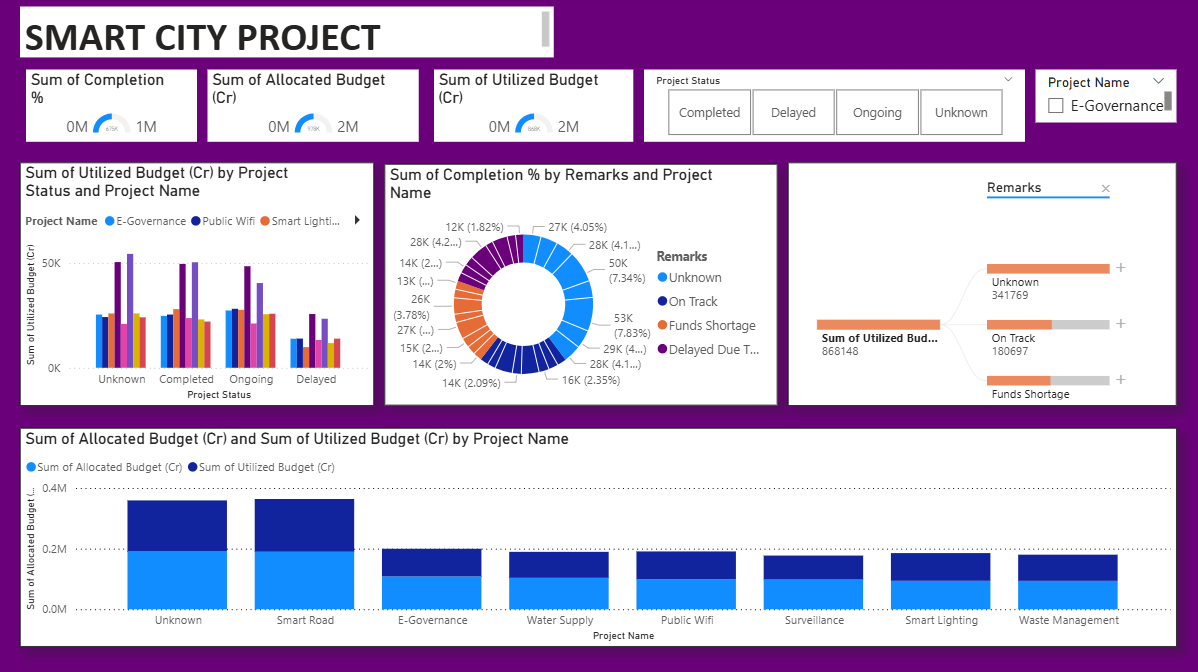

What the dashboard file says about the page in this screenshot:
{"tool":"powerbi","page":{"name":"Smart City Project Dashboard","canvas":[1280,720],"ordinal":0},"visuals":[{"type":"clusteredColumnChart","fields":{"Category":["Sheet1.Project Status"],"Y":["Sum(Sheet1.Utilized Budget (Cr))"],"Series":["Sheet1.Project Name"]},"box":[28.6,176.6,375.4,257.7],"z":0},{"type":"lineStackedColumnComboChart","fields":{"Y":["Sum(Sheet1.Allocated Budget (Cr))","Sum(Sheet1.Utilized Budget (Cr))"],"Category":["Sheet1.Project Name"]},"box":[28.6,458.1,1226.4,232.2],"z":1000},{"type":"donutChart","fields":{"Category":["Sheet1.Remarks"],"Y":["Sum(Sheet1.Completion %)","select"],"Series":["Sheet1.Project Name"]},"box":[415.1,178.1,416.7,256.1],"z":2000},{"type":"gauge","fields":{"Y":["Sum(Sheet1.Completion %)"]},"box":[35,77.9,181.3,76.3],"z":3000},{"type":"gauge","fields":{"Y":["Sum(Sheet1.Allocated Budget (Cr))"]},"box":[227.5,77.9,224.3,76.3],"z":4000},{"type":"gauge","fields":{"Y":["Sum(Sheet1.Utilized Budget (Cr))"]},"box":[467.6,77.9,211.6,76.3],"z":5000},{"type":"slicer","fields":{"Values":["Sheet1.Project Status"]},"box":[690.3,77.9,404,76.3],"z":6000},{"type":"slicer","fields":{"Values":["Sheet1.Project Name"]},"box":[1105.5,77.9,149.5,55.7],"z":7000},{"type":"decompositionTreeVisual","fields":{"ExplainBy":["Sheet1.Remarks","Sheet1.Project Name"],"Analyze":["Sum(Sheet1.Utilized Budget (Cr))"]},"box":[843,176.6,412,257.7],"z":8000},{"type":"textbox","box":[28.6,11.1,566.3,54.1],"z":9000}]}

Visuals, with their boxes in screenshot pixels (x1, y1, x2, y2), scaled from the page's 1280x720 canvas onto the 1198x672 screenshot:
clusteredColumnChart - Sheet1.Project Status x Sum(Sheet1.Utilized Budget (Cr)): [x1=27, y1=165, x2=378, y2=405]
lineStackedColumnComboChart - Sum(Sheet1.Allocated Budget (Cr)) x Sum(Sheet1.Utilized Budget (Cr)): [x1=27, y1=428, x2=1175, y2=644]
donutChart - Sheet1.Remarks x Sum(Sheet1.Completion %): [x1=389, y1=166, x2=779, y2=405]
gauge - Sum(Sheet1.Completion %): [x1=33, y1=73, x2=202, y2=144]
gauge - Sum(Sheet1.Allocated Budget (Cr)): [x1=213, y1=73, x2=423, y2=144]
gauge - Sum(Sheet1.Utilized Budget (Cr)): [x1=438, y1=73, x2=636, y2=144]
slicer - Sheet1.Project Status: [x1=646, y1=73, x2=1024, y2=144]
slicer - Sheet1.Project Name: [x1=1035, y1=73, x2=1175, y2=125]
decompositionTreeVisual - Sheet1.Remarks x Sheet1.Project Name: [x1=789, y1=165, x2=1175, y2=405]
textbox: [x1=27, y1=10, x2=557, y2=61]
